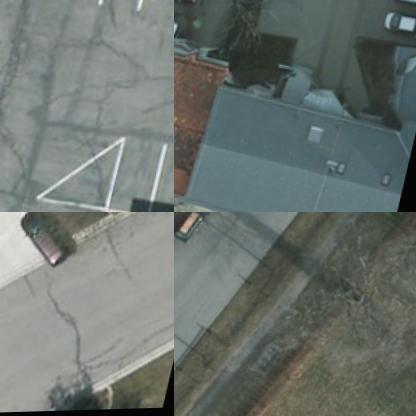car: (13, 212, 87, 269), (178, 212, 229, 243), (383, 7, 415, 40), (174, 1, 189, 42), (392, 0, 415, 15)
